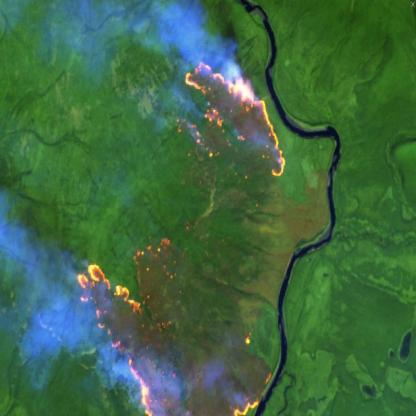fire: (75, 58, 288, 416)
